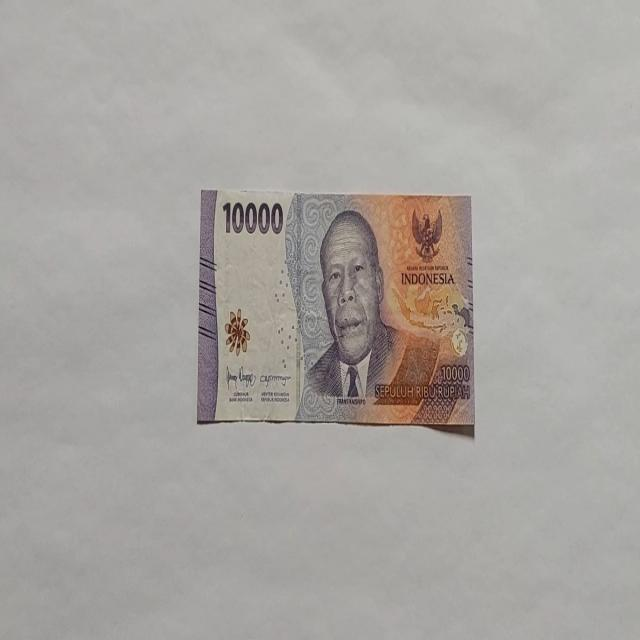sepuluh ribu rupiah: (196, 187, 474, 430), (292, 207, 440, 423)
